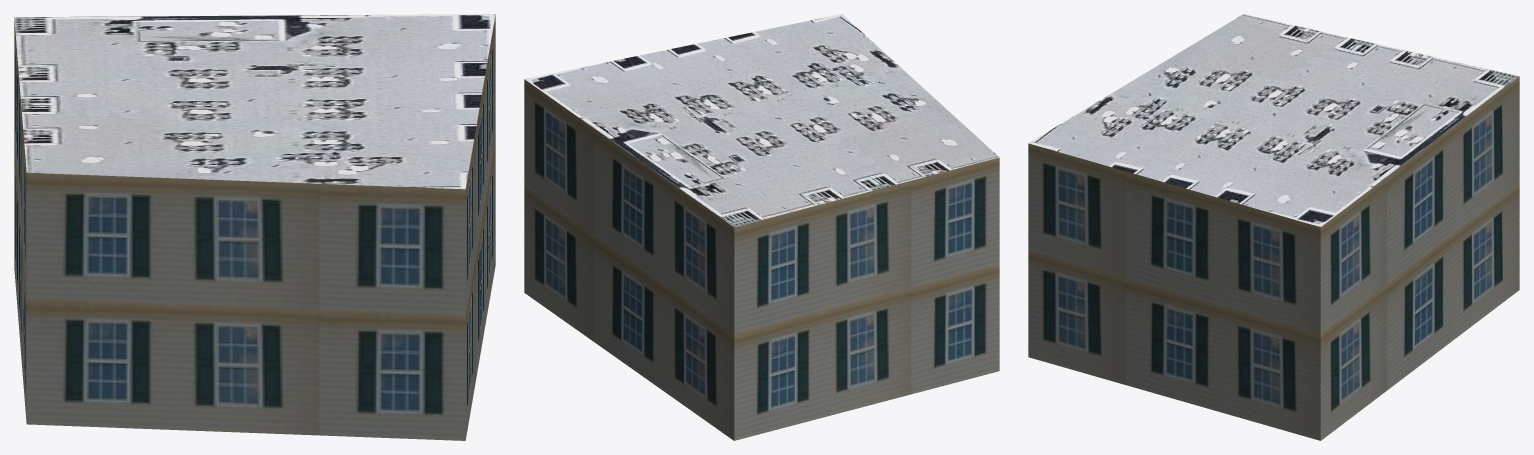
Rendered from ResTex__3937.fbx.
The picture shows the model from 3 angles, left to right: view 1: azimuth 30°, elevation 25°; view 2: azimuth 150°, elevation 25°; view 3: azimuth 270°, elevation 25°; orthographic projection. The views are drawn at different scales.
Visible parts, largest first — view 1: CityEngineMaterial_7_m, CityEngineMaterial_2_m; view 2: CityEngineMaterial_7_m, CityEngineMaterial_2_m; view 3: CityEngineMaterial_7_m, CityEngineMaterial_2_m.
Part boxes in pixels (box(x1,y1,x2,y2)): CityEngineMaterial_7_m: box(14, 15, 495, 440); CityEngineMaterial_2_m: box(14, 14, 495, 189); CityEngineMaterial_7_m: box(524, 79, 999, 440); CityEngineMaterial_2_m: box(524, 14, 999, 227); CityEngineMaterial_7_m: box(1028, 76, 1519, 440); CityEngineMaterial_2_m: box(1029, 14, 1518, 226).
Size of the model in its own units: 12.83 by 6 by 12.5.
Materials: 2 (2 with a texture image).
